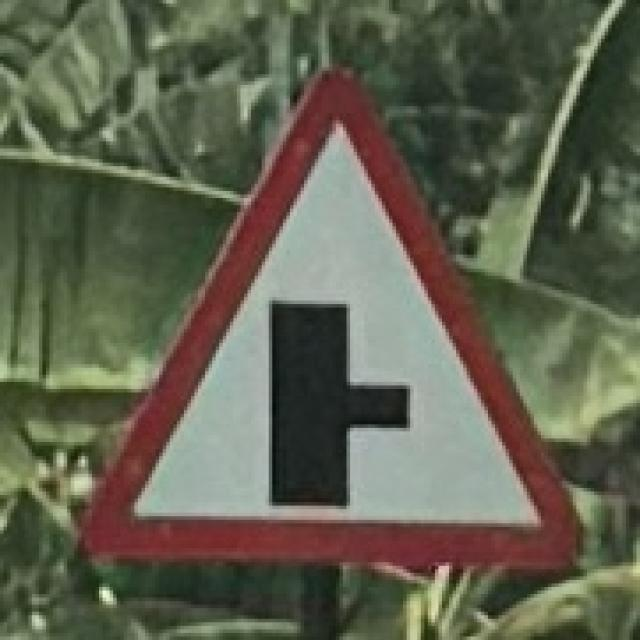SIDE_ROAD_RIGHT: (67, 43, 594, 584)
